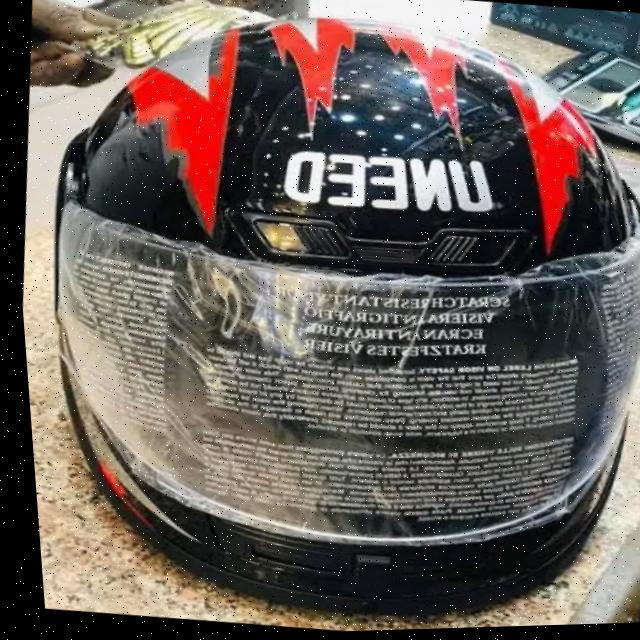Helmet: (1, 10, 640, 640)
